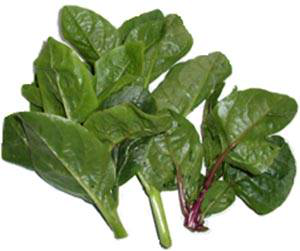Bayam: (7, 3, 299, 251)
